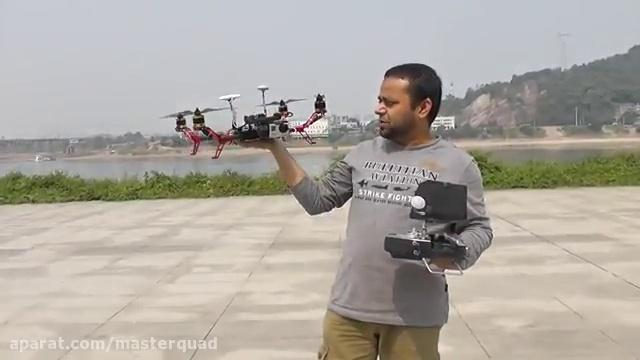drone: (154, 82, 332, 162)
